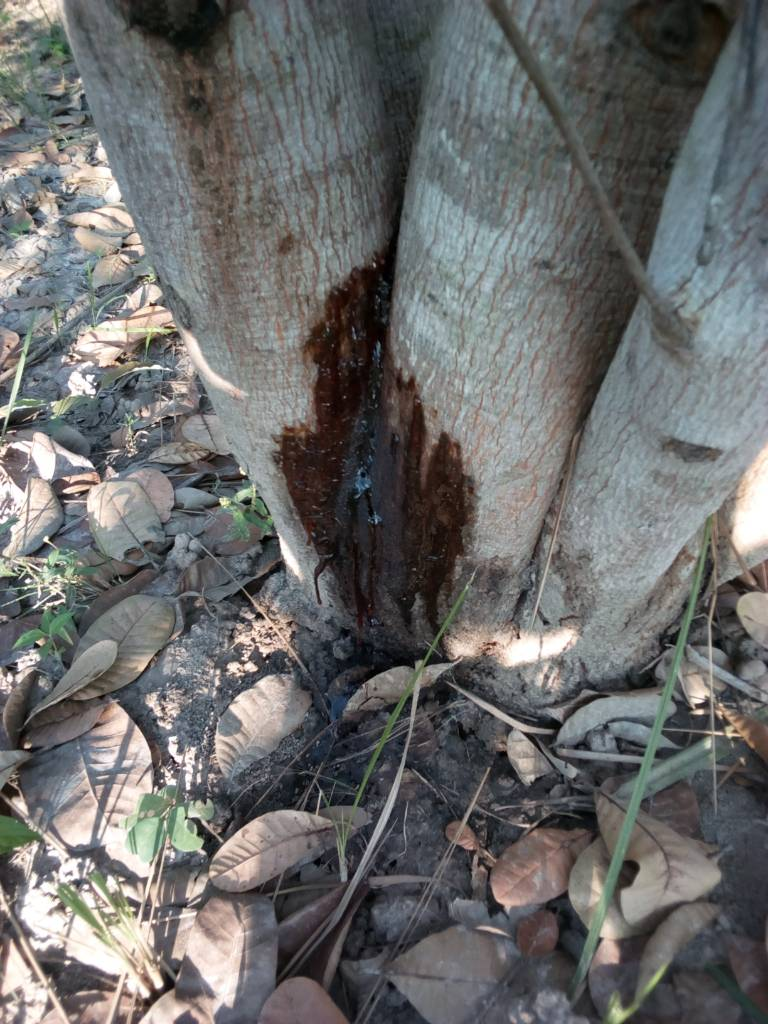Gommose: (272, 278, 468, 649)
